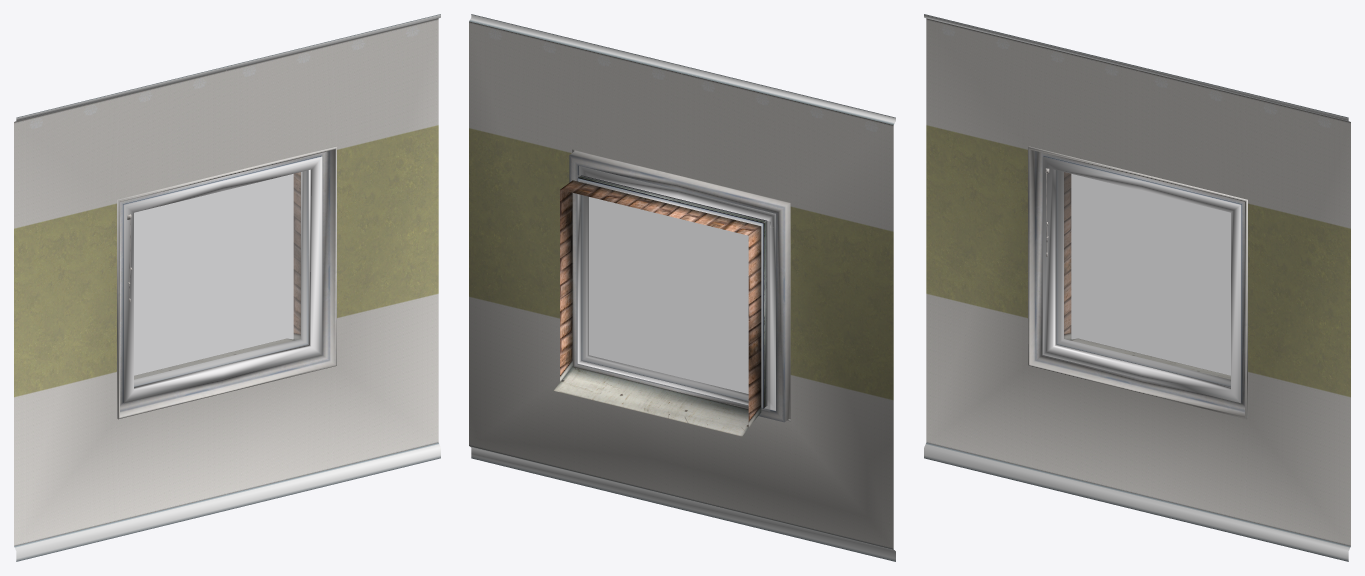
The model's file is waitingroom_flat_window_no_blinds.dae.
3 renders of one model, left to right at view 1: azimuth 30°, elevation 25°; view 2: azimuth 150°, elevation 25°; view 3: azimuth 330°, elevation 25°, orthographic.
Visible parts, largest first — view 1: window, pPlane12; view 2: window, pPlane12; view 3: window, pPlane12.
Part boxes in pixels (x1,y1,x2,y2): window: (14, 14, 440, 561); pPlane12: (134, 170, 308, 386); window: (469, 14, 895, 561); pPlane12: (576, 174, 770, 411); window: (924, 14, 1350, 561); pPlane12: (1056, 170, 1230, 386).
Size of the model in its own units: 4 by 4 by 0.5829.
